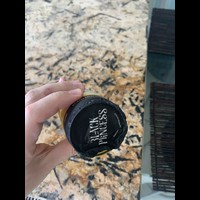blackprincess: (55, 90, 128, 161)
